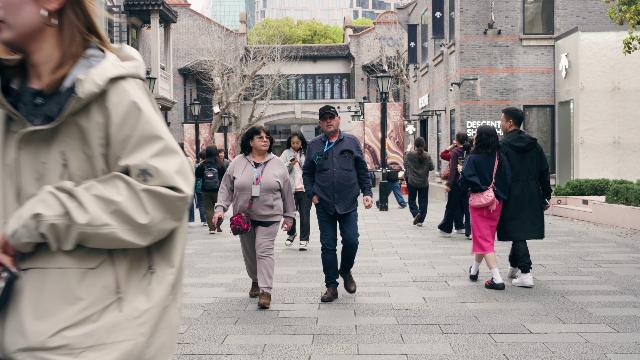person: (212, 125, 296, 309), (301, 105, 374, 302), (496, 107, 553, 288), (456, 123, 511, 290), (280, 130, 314, 250), (404, 137, 435, 227), (197, 145, 228, 234), (463, 134, 477, 239)
